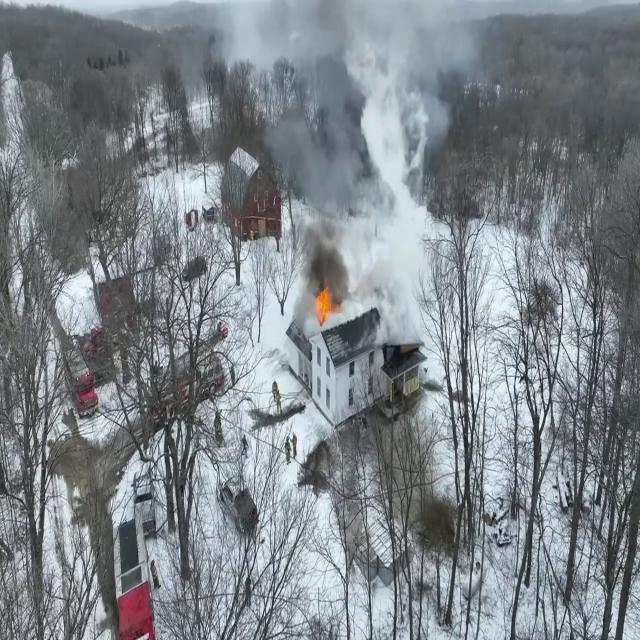Fire: (312, 277, 334, 323)
Smoke: (272, 1, 474, 330)
